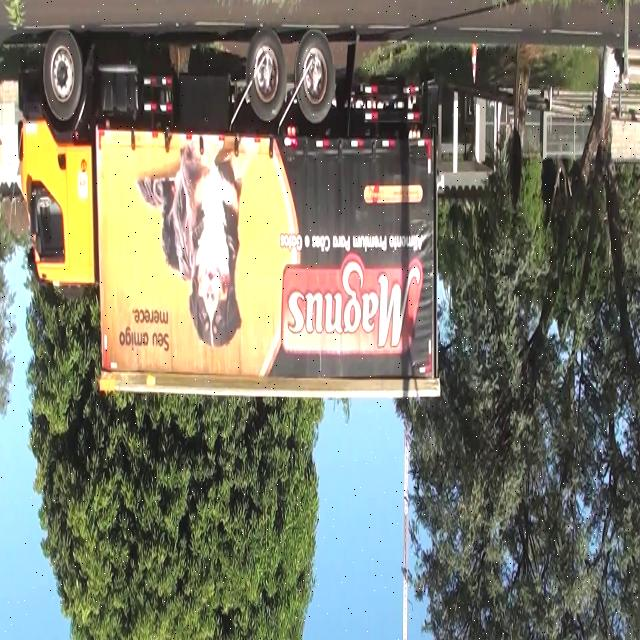-axle: (37, 32, 84, 124), (246, 30, 285, 122), (296, 32, 334, 122)
